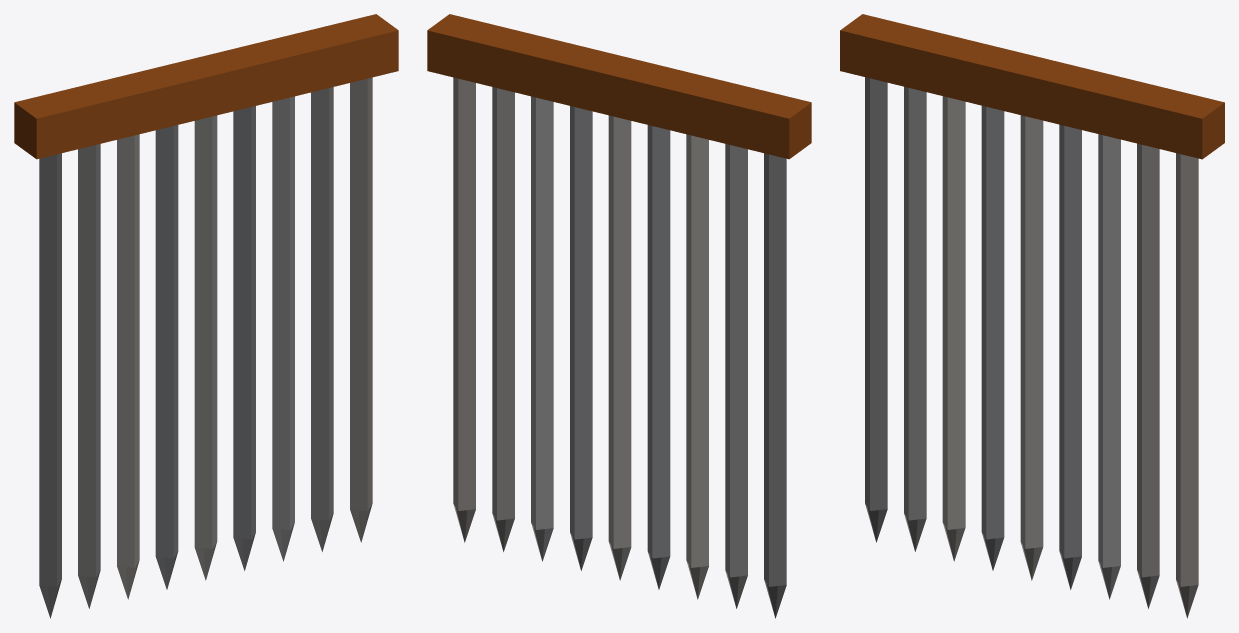
The model's file is portcullis.glb.
3 renders of one model, left to right at view 1: azimuth 30°, elevation 25°; view 2: azimuth 150°, elevation 25°; view 3: azimuth 330°, elevation 25°, orthographic.
Parts seen in each view (by area): view 1: Cube, bar.001, bar.005, bar.006, bar.008, bar, bar.002, bar.007, bar.003, bar.004; view 2: Cube, bar.001, bar.005, bar.006, bar.008, bar, bar.002, bar.007, bar.003, bar.004; view 3: Cube, bar.006, bar.005, bar.001, bar.008, bar.007, bar, bar.002, bar.003, bar.004.
Part boxes in pixels (bbox=[...]): Cube: bbox=[14, 14, 398, 159]; bar.001: bbox=[194, 115, 217, 580]; bar.005: bbox=[155, 125, 178, 589]; bar.006: bbox=[117, 134, 139, 599]; bar.008: bbox=[39, 153, 61, 618]; bar: bbox=[233, 106, 255, 570]; bar.002: bbox=[272, 96, 294, 561]; bar.007: bbox=[78, 144, 100, 608]; bar.003: bbox=[311, 87, 333, 551]; bar.004: bbox=[350, 77, 372, 542]; Cube: bbox=[427, 14, 811, 159]; bar.001: bbox=[608, 115, 631, 580]; bar.005: bbox=[647, 125, 670, 589]; bar.006: bbox=[686, 134, 708, 599]; bar.008: bbox=[764, 153, 786, 618]; bar: bbox=[570, 106, 592, 570]; bar.002: bbox=[531, 96, 553, 561]; bar.007: bbox=[725, 144, 747, 608]; bar.003: bbox=[492, 87, 514, 551]; bar.004: bbox=[453, 77, 475, 542]; Cube: bbox=[840, 14, 1224, 159]; bar.006: bbox=[942, 96, 965, 561]; bar.005: bbox=[981, 105, 1004, 570]; bar.001: bbox=[1020, 115, 1043, 580]; bar.008: bbox=[865, 77, 887, 542]; bar.007: bbox=[904, 86, 926, 551]; bar: bbox=[1059, 124, 1081, 589]; bar.002: bbox=[1098, 134, 1120, 599]; bar.003: bbox=[1137, 143, 1159, 608]; bar.004: bbox=[1176, 153, 1198, 618].
Bounding box in the file's own units: 18.65 × 25.32 × 2.
